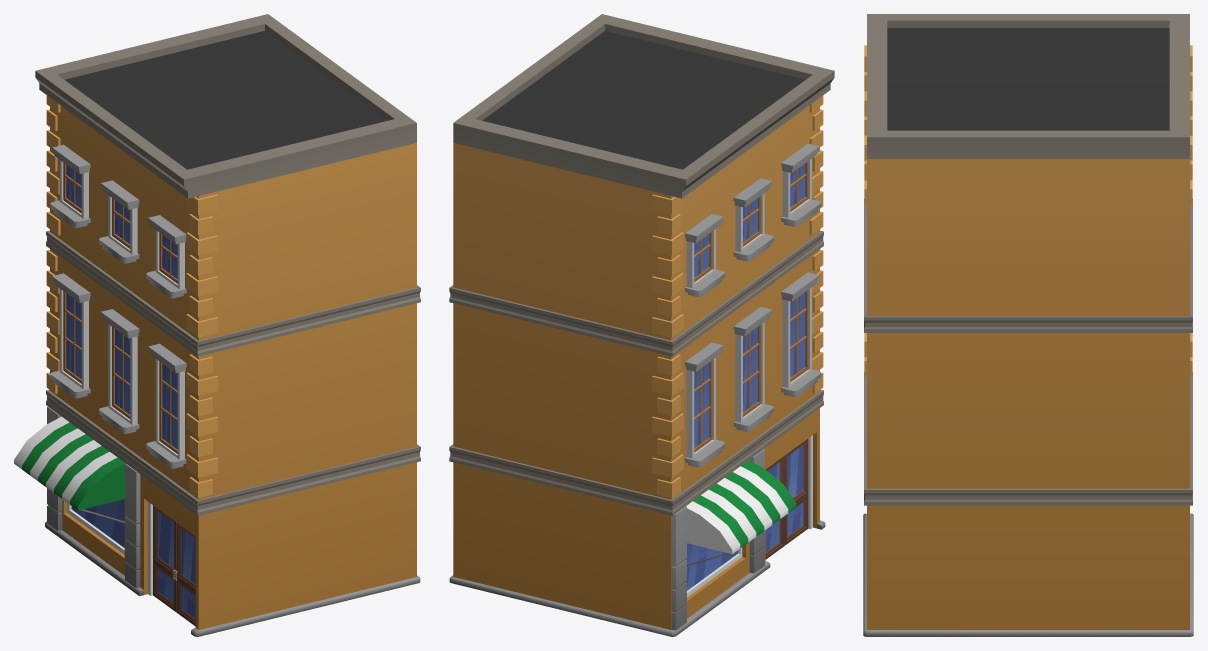
The model's file is Building_8_1_B.glb.
3 renders of one model, left to right at view 1: azimuth 30°, elevation 25°; view 2: azimuth 150°, elevation 25°; view 3: azimuth 270°, elevation 25°, orthographic. The views are drawn at different scales.
Parts seen in each view (by area): view 1: Building 8_1_B; view 2: Building 8_1_B; view 3: Building 8_1_B.
Part boxes in pixels (x1=…): Building 8_1_B: x1=14, y1=14, x2=420, y2=636; Building 8_1_B: x1=449, y1=14, x2=834, y2=636; Building 8_1_B: x1=863, y1=14, x2=1193, y2=636.
Size of the model in its own units: 6.81 by 11.08 by 6.67.
Materials: 3 (3 with a texture image).
